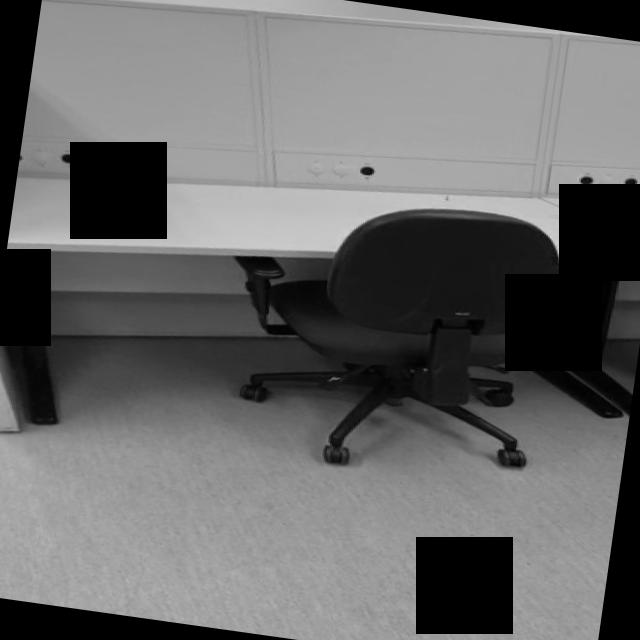cadeira-azul: (208, 179, 566, 490)
